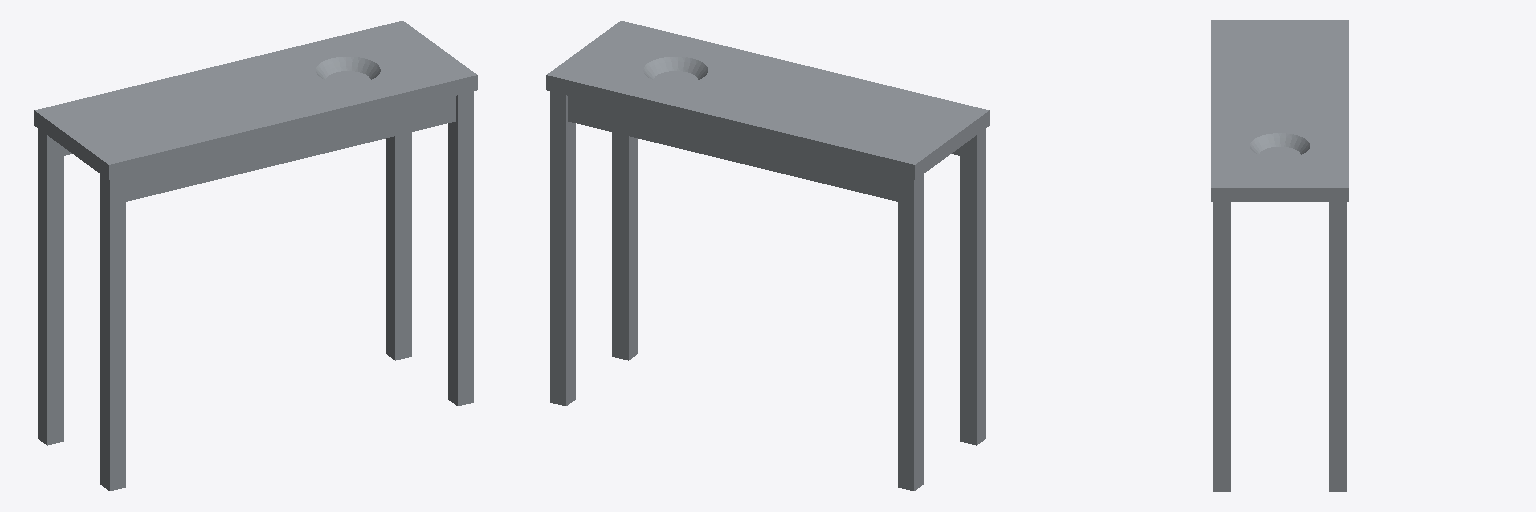
The robot description file, URDF, robot "complete_table":
<?xml version="1.0"?>
<!--
  complete_table.urdf
  Complete table V2, converted from complete_table_v2.step.
  - visual/collision: meshes/complete_table.stl (metres, XY-centred, floor z=0)
  - bounding-box size: 1 x 0.35 x 0.85 m
  - volume: 0.0211619404 m^3
  - mass/inertia: uniform stainless steel at 7850 kg/m^3
-->
<robot name="complete_table">

  <material name="complete_table_stainless">
    <color rgba="0.62 0.64 0.66 1.0"/>
  </material>

  <link name="base_link">
    <inertial>
      <origin xyz="-0.0128140967 0.0137472873 0.693653881" rpy="0 0 0"/>
      <mass value="166.121232"/>
      <inertia
          ixx="11.5401152" ixy="-0.113911095" ixz="0.2902391"
          iyy="30.0569243" iyz="-0.199531054" izz="23.4088639"/>
    </inertial>

    <visual>
      <origin xyz="0 0 0" rpy="0 0 0"/>
      <geometry>
        <mesh filename="meshes/complete_table.stl" scale="1 1 1"/>
      </geometry>
      <material name="complete_table_stainless"/>
    </visual>

    <collision>
      <origin xyz="0 0 0" rpy="0 0 0"/>
      <geometry>
        <mesh filename="meshes/complete_table.stl" scale="1 1 1"/>
      </geometry>
    </collision>
  </link>
</robot>

--- What the picture shows (computed from the rendered views, not written in the file) ---
The picture shows the robot from 3 angles, left to right: view 1: azimuth 30°, elevation 25°; view 2: azimuth 150°, elevation 25°; view 3: azimuth 270°, elevation 25°; orthographic projection.
Robot: complete_table — 1 links, 0 joints (none); root link base_link; default pose: all joints at 0.
Visible links, largest first — view 1: base_link; view 2: base_link; view 3: base_link.
Boxes of the visible links, x1,y1,x2,y2 form: base_link: [34, 21, 477, 490]; base_link: [546, 21, 989, 490]; base_link: [1211, 20, 1348, 491].
Size in the robot's own frame: 1 by 0.35 by 0.85 metres.
1 mesh visuals loaded from 1 distinct referenced files (1 binary STL).
